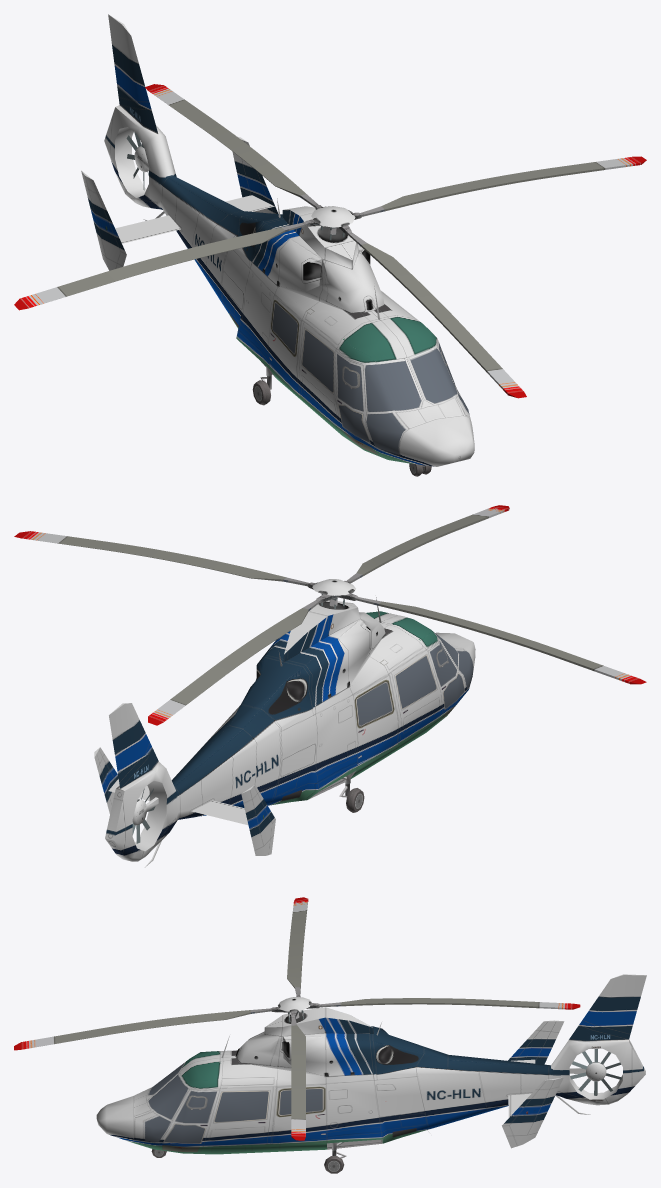
File: oilRig_helicopter_AST2.fbx
3 views of the same model, one above another, from view 1: azimuth 30°, elevation 25°; view 2: azimuth 150°, elevation 25°; view 3: azimuth 270°, elevation 25° (orthographic). The views are drawn at different scales.
Visible parts, largest first — view 1: helicopter_AST.038, topfan; view 2: helicopter_AST.038, topfan; view 3: helicopter_AST.038, topfan, backfan.
Part boxes in pixels (bbox=[...]): helicopter_AST.038: bbox=[81, 14, 474, 476]; topfan: bbox=[14, 84, 646, 398]; helicopter_AST.038: bbox=[94, 597, 475, 867]; topfan: bbox=[14, 505, 646, 725]; helicopter_AST.038: bbox=[96, 974, 646, 1173]; topfan: bbox=[14, 897, 580, 1140]; backfan: bbox=[570, 1049, 622, 1095].
Bounding box in the file's own units: 1359 × 481 × 1519.
